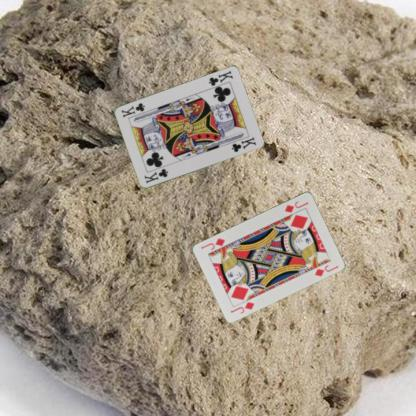Jd: (282, 198, 310, 214), (228, 299, 256, 315)
Kc: (206, 68, 234, 87), (142, 166, 169, 185)
